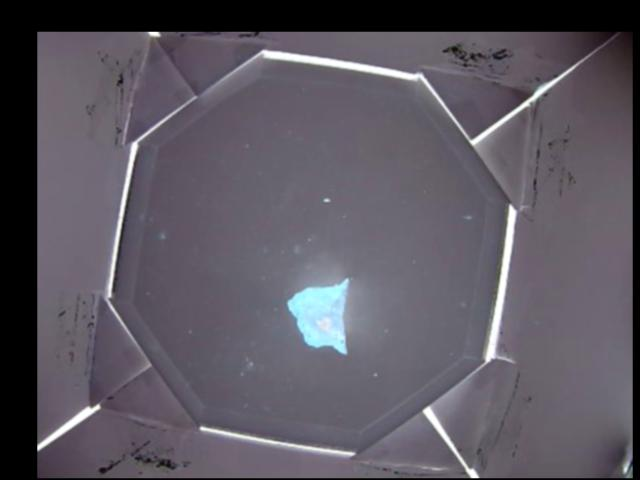Brisk: (287, 275, 350, 354)
